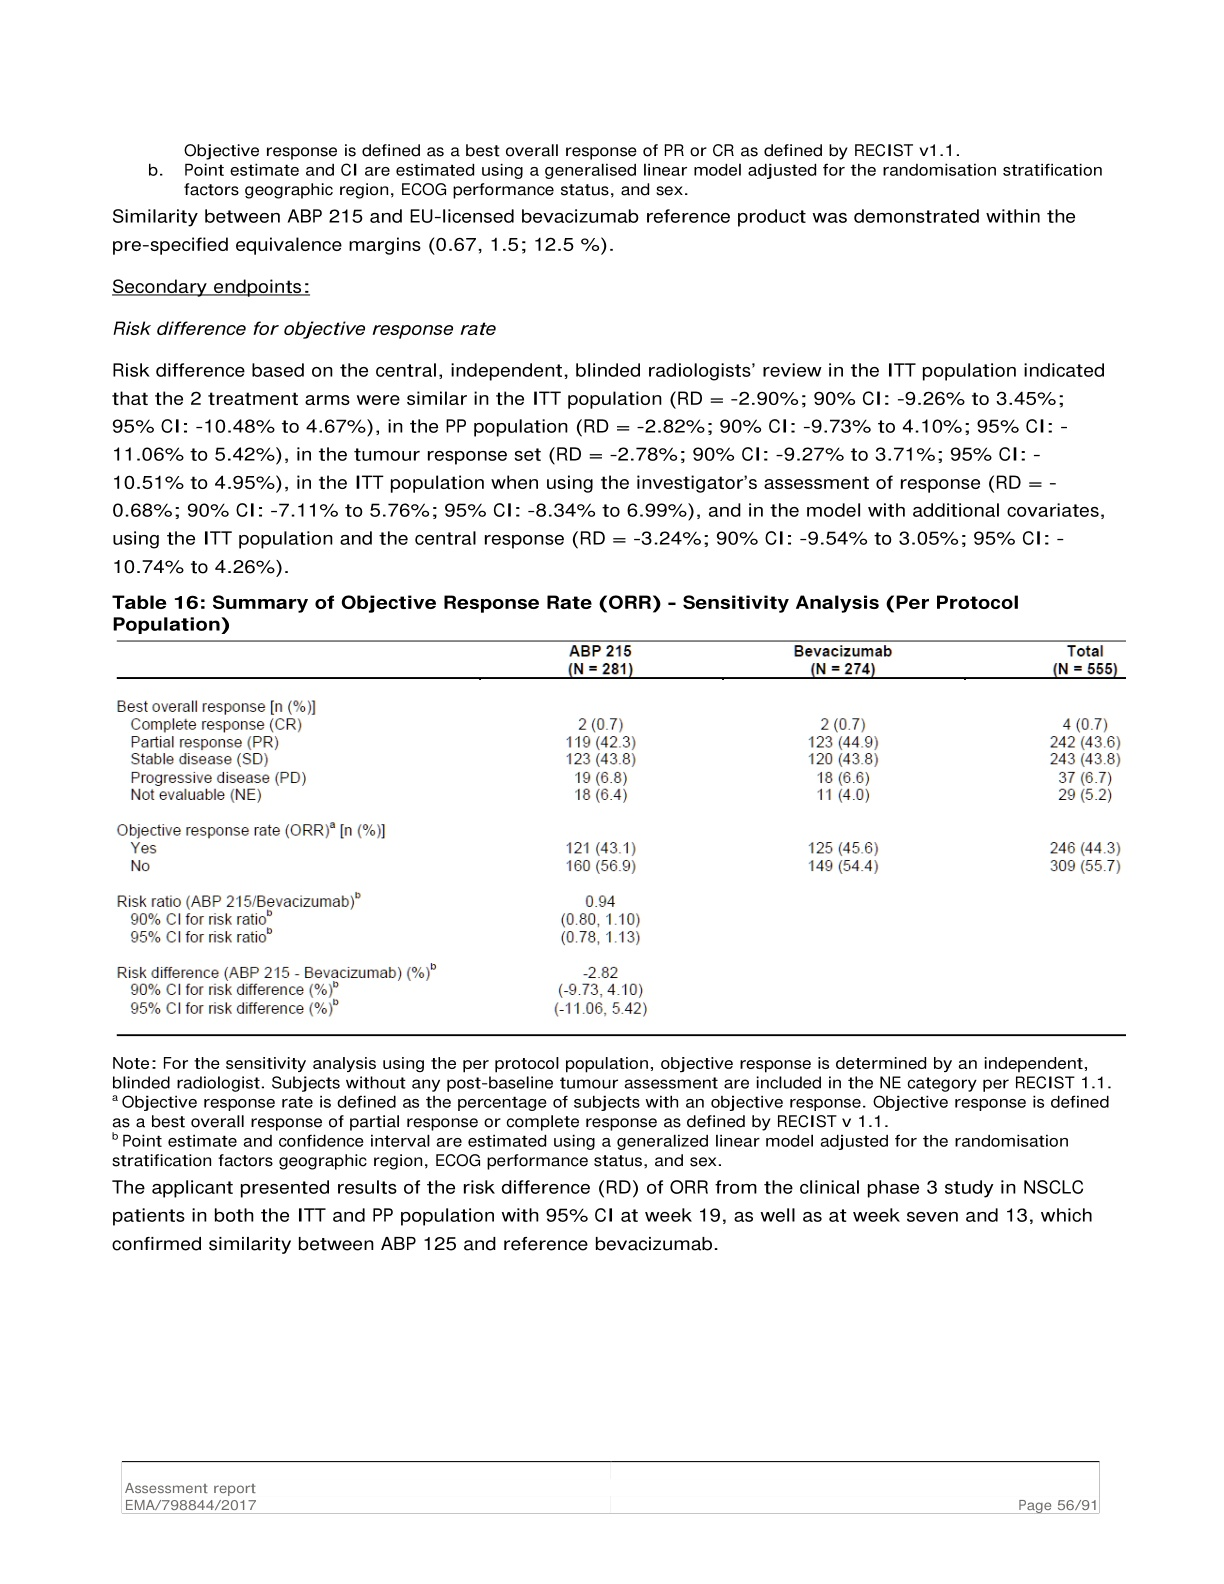partial_lined: (114, 636, 1130, 1040)
